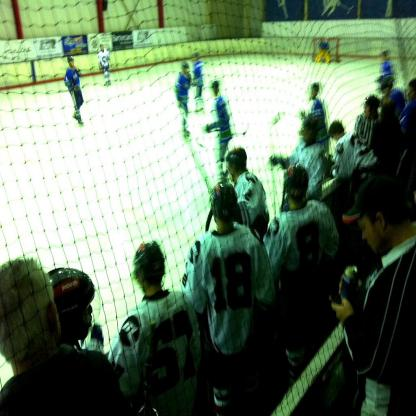face: (358, 217, 381, 256), (76, 299, 94, 340), (408, 88, 416, 102), (364, 106, 370, 119), (70, 60, 75, 68)
